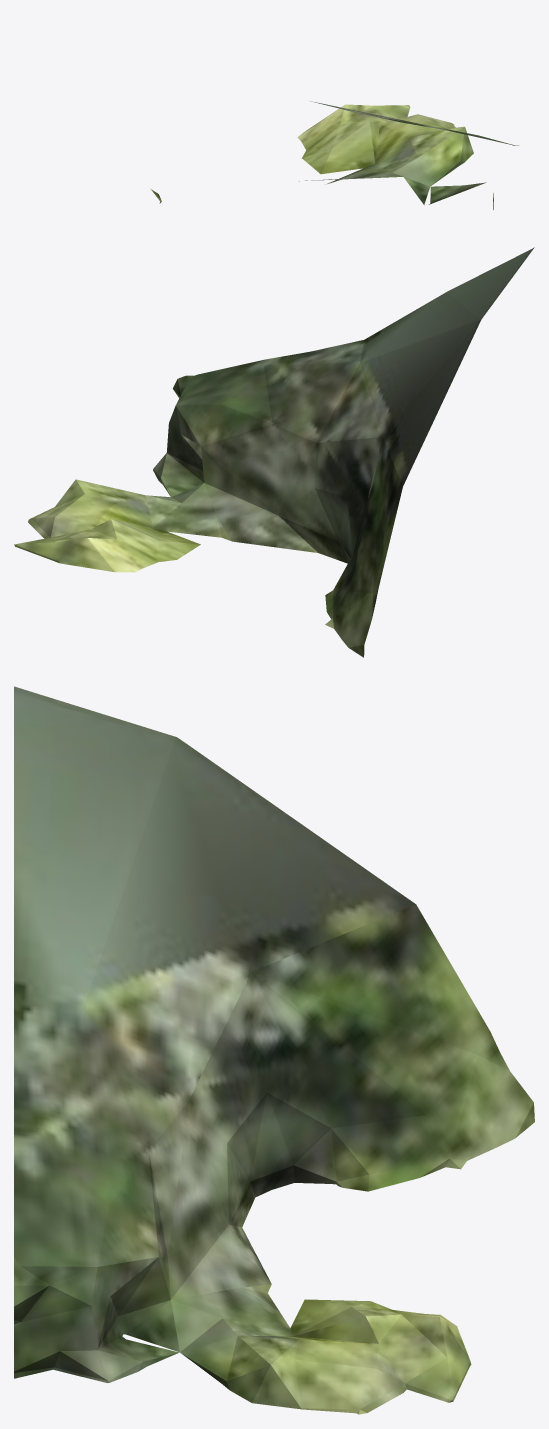
3 renders of one model, top to bottom at view 1: azimuth 30°, elevation 25°; view 2: azimuth 150°, elevation 25°; view 3: azimuth 270°, elevation 25°, orthographic. The views are drawn at different scales.
Bounding box in the file's own units: 11.23 × 7.8 × 8.45.
1 material, 1 textured.
